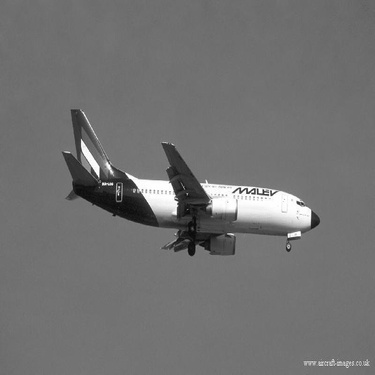airplane: (48, 103, 328, 266)
